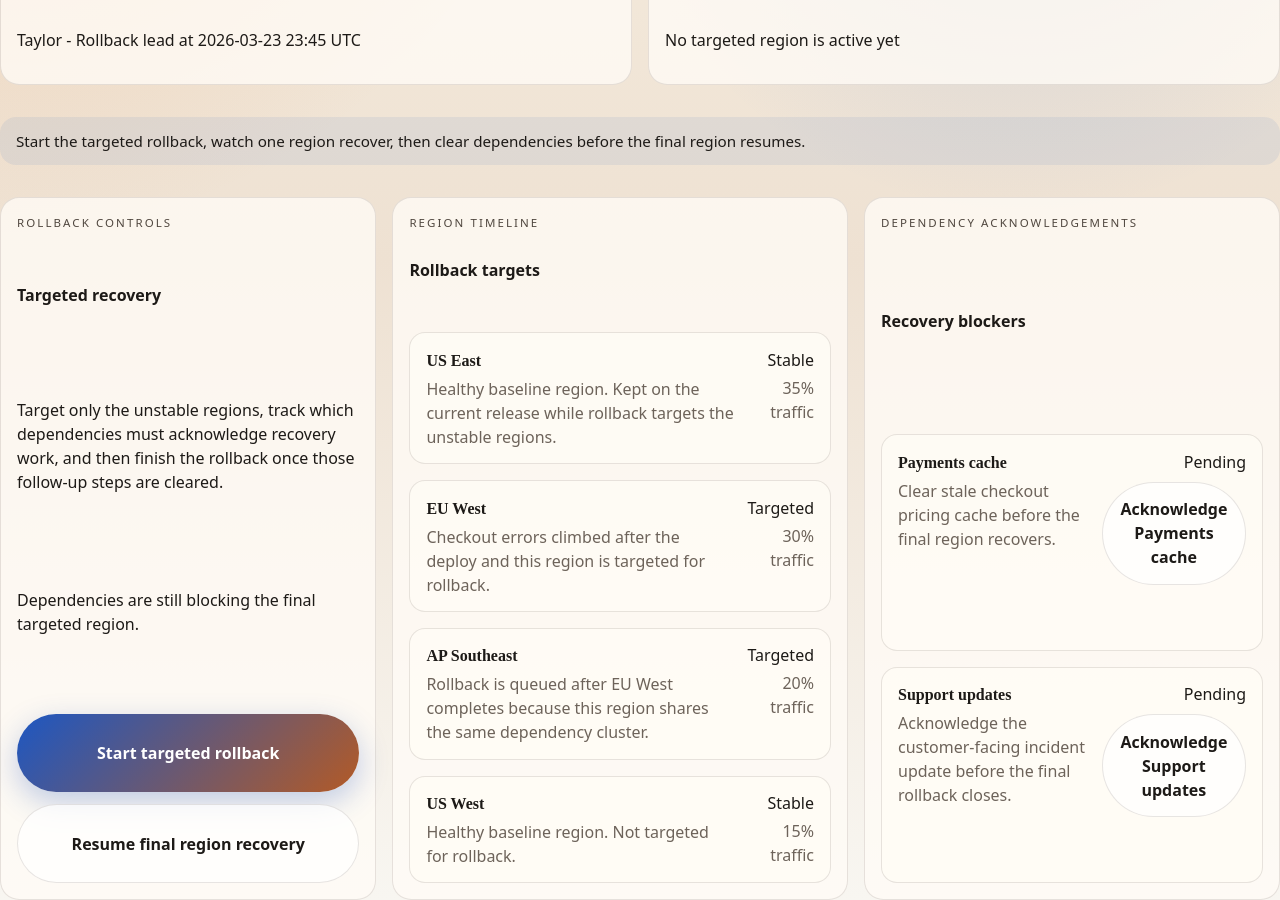
Test: release multi-region rollback › resumes the final targeted region after acknowledgements and completes the rollback
(page scrolled)
Click the button "Start targeted rollback" at (188,753), box x1=17 y1=714 x2=359 y2=792
Wait 2580 ms
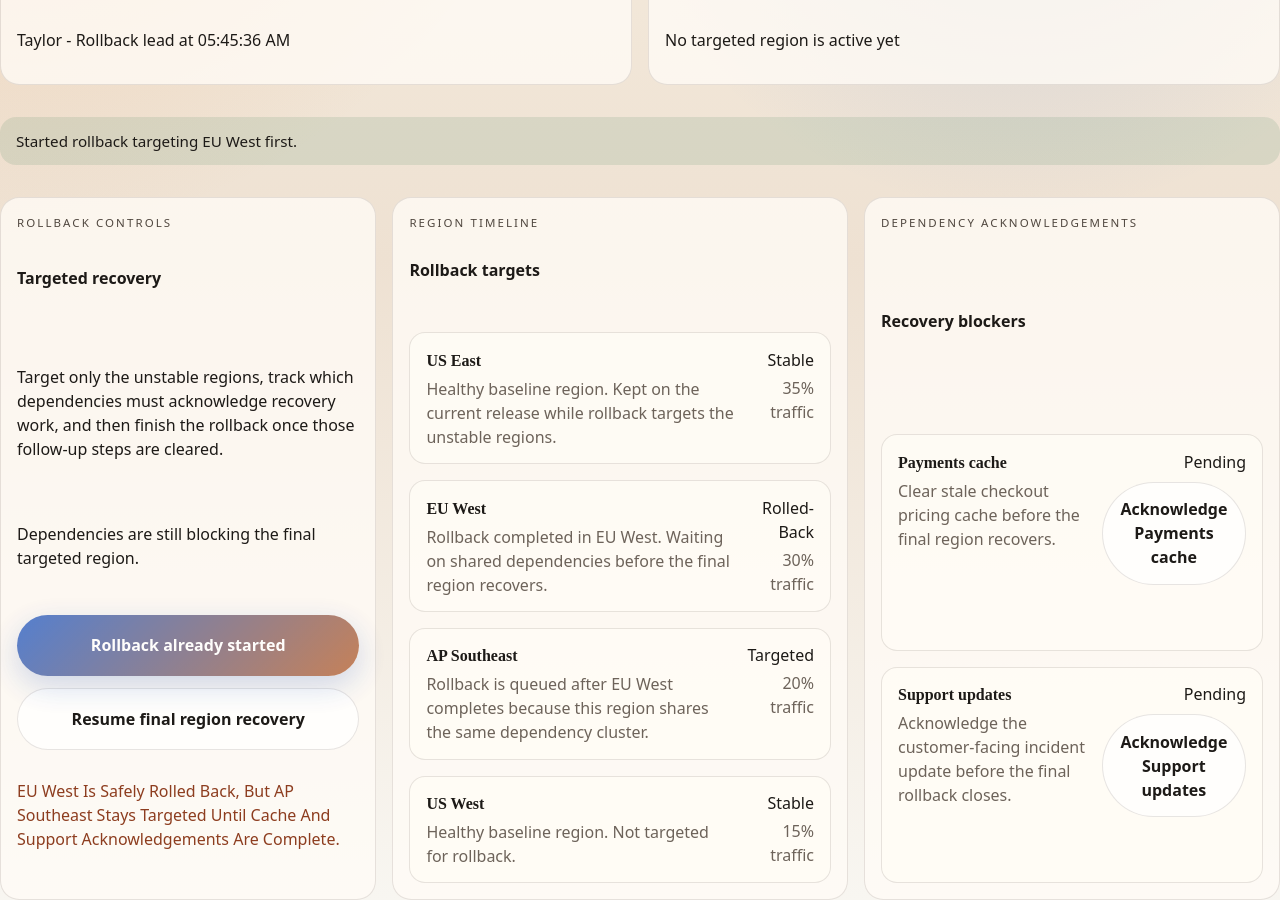
Click the button "Acknowledge Payments cache" at (1174,533), box x1=1102 y1=482 x2=1246 y2=584
Wait 220 ms
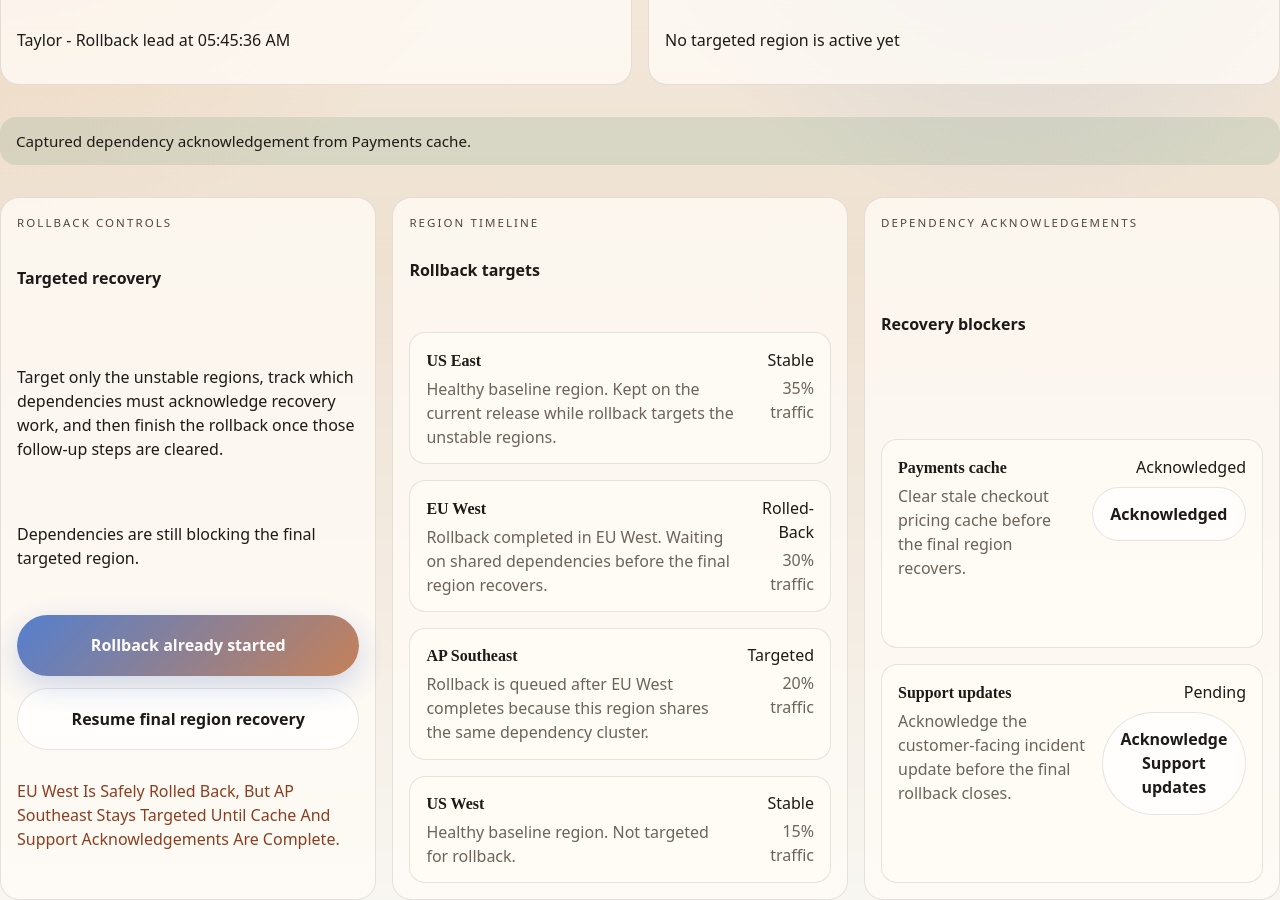
Click the button "Acknowledge Support updates" at (1174,763), box x1=1102 y1=712 x2=1246 y2=815
Wait 220 ms
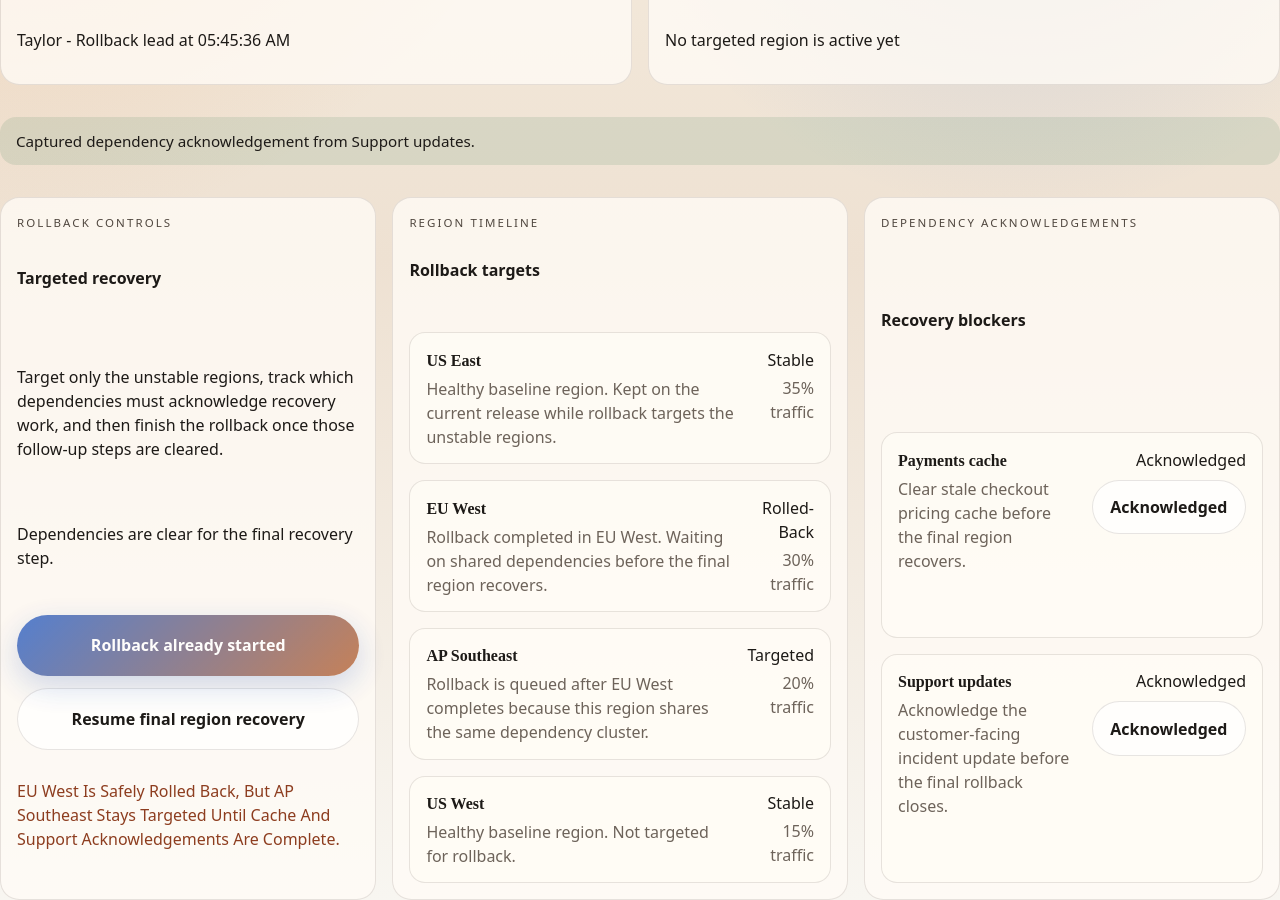
Click the button "Resume final region recovery" at (188,719), box x1=17 y1=688 x2=359 y2=750
Wait 2580 ms
(page scrolled)
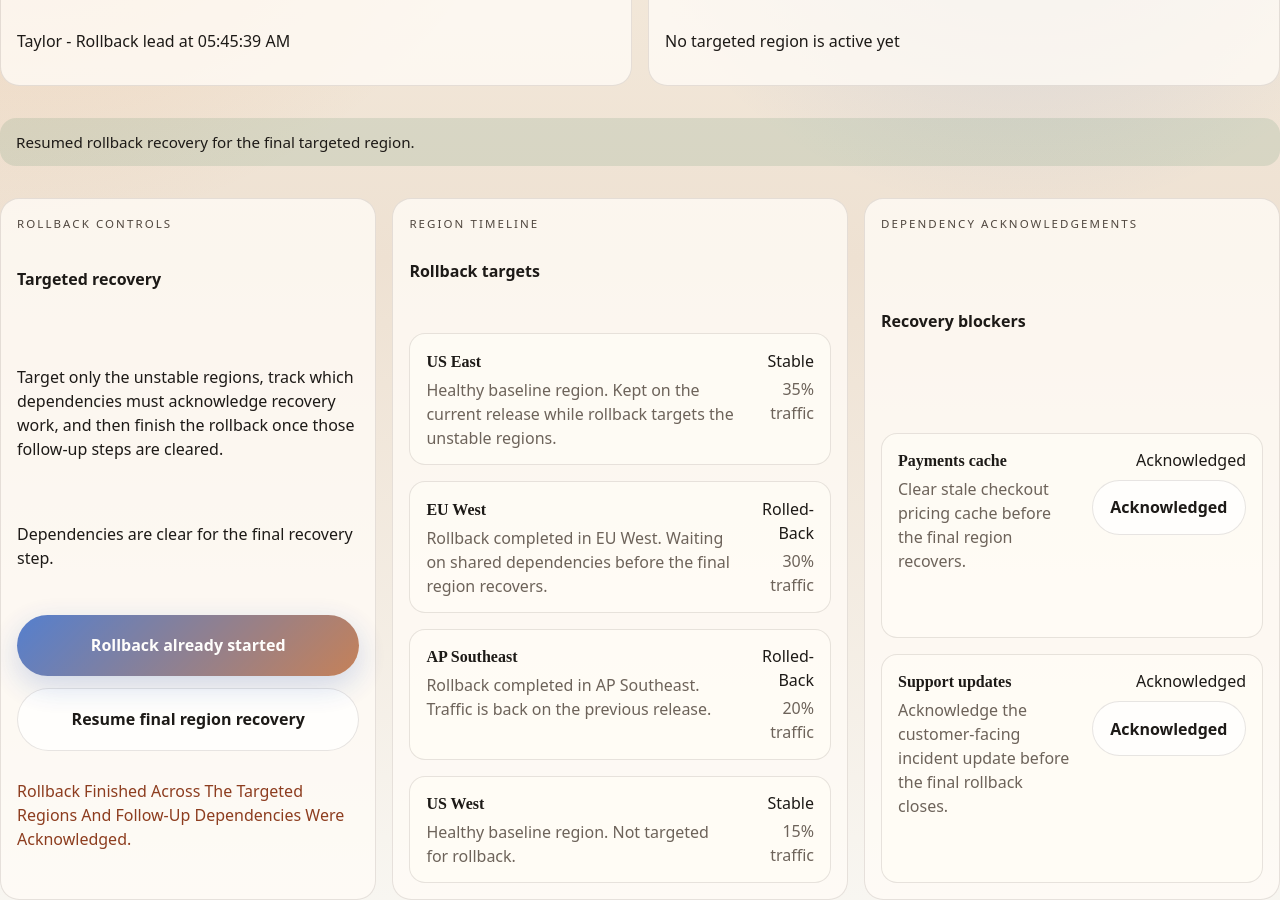
Now the text "Resumed rollback recovery for the final targeted region." is shown, box x1=0 y1=118 x2=1279 y2=166
Now the text "Rollback finished across the targeted regions and follow-up dependencies were acknowledged." is shown, box x1=17 y1=780 x2=344 y2=850
Now the text "Rollback completed in AP Southeast. Traffic is back on the previous release." is shown, box x1=426 y1=673 x2=746 y2=721
